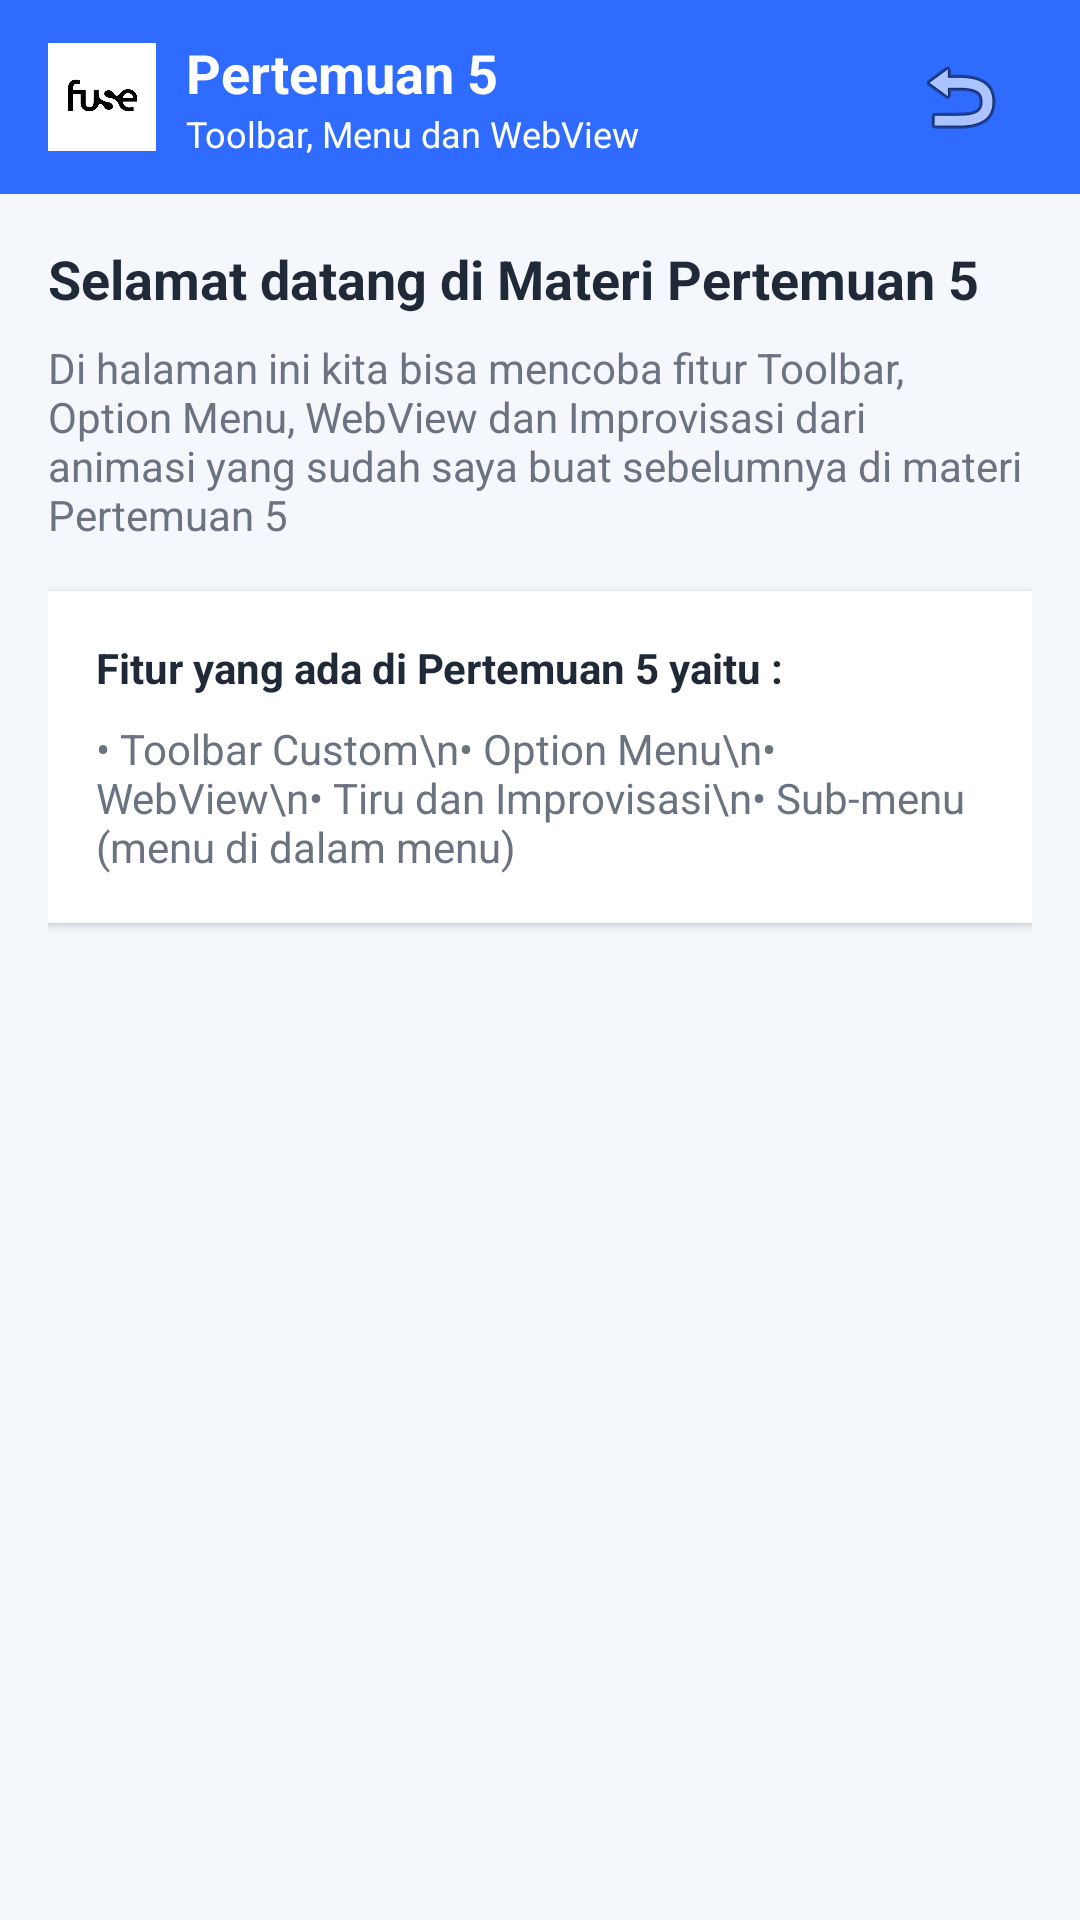

Where to tap for icons on this 1080w x 1920h app screen, as [x,y]:
revert: [961,97]
